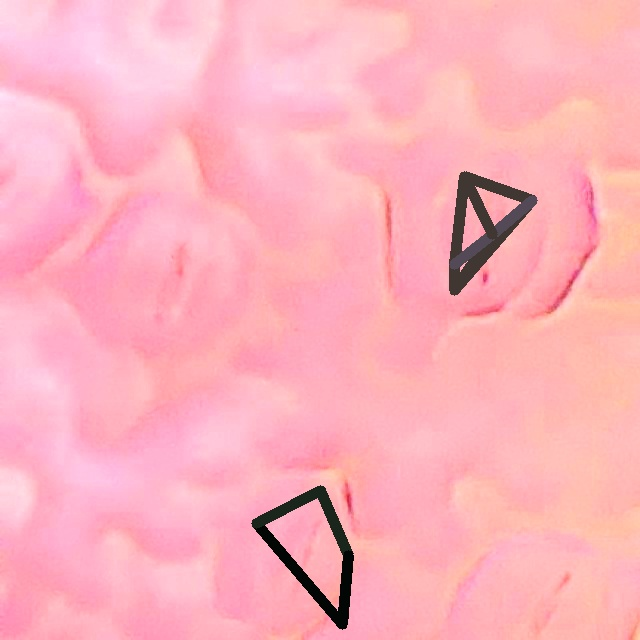close: (251, 486, 352, 629)
open: (449, 172, 536, 295)
